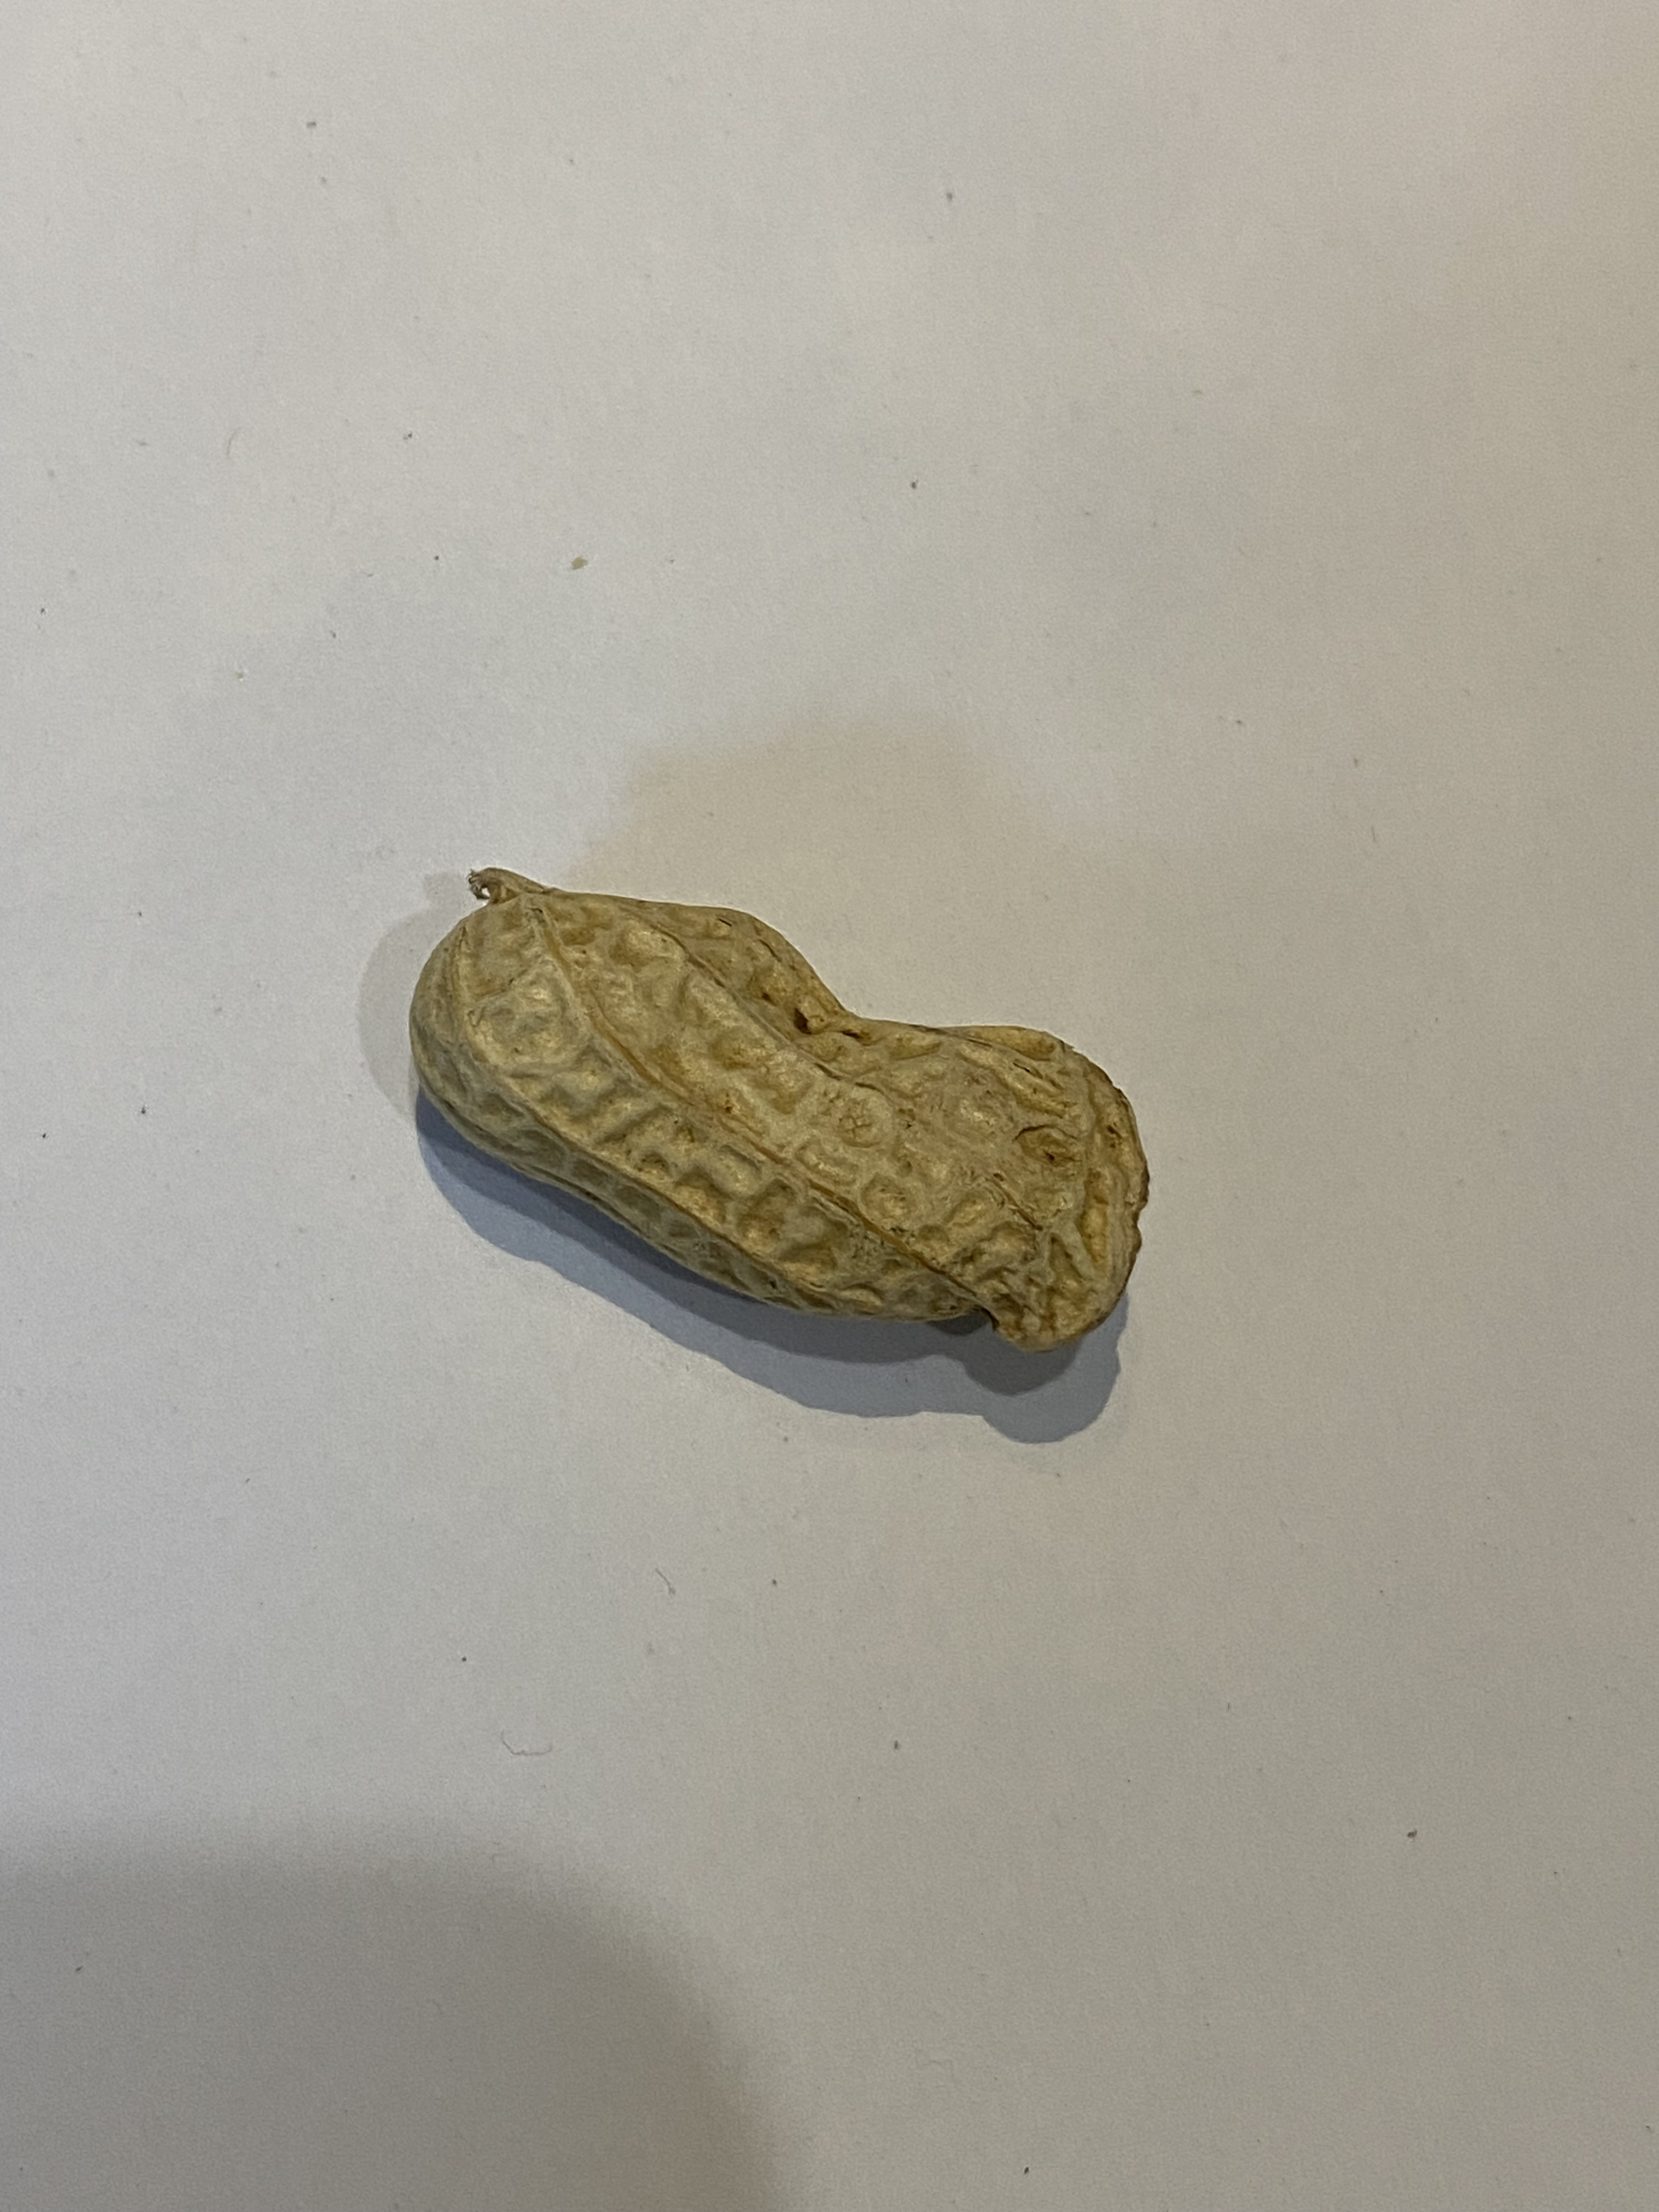kacang2: (392, 824, 1164, 1371)
